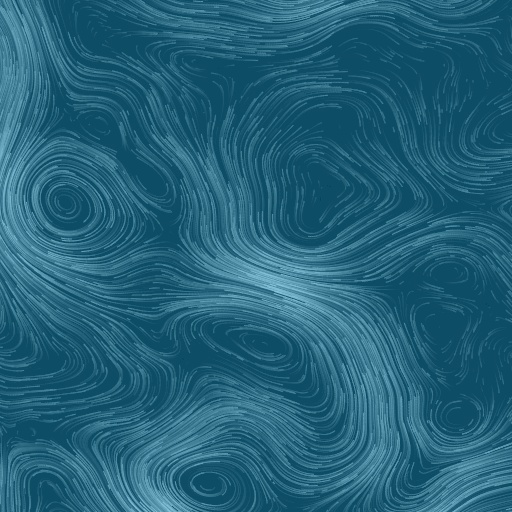eddy: (271, 142, 380, 242), (14, 167, 121, 253), (194, 314, 302, 373), (408, 298, 476, 381), (174, 462, 245, 511), (430, 392, 487, 442), (424, 256, 475, 290)
